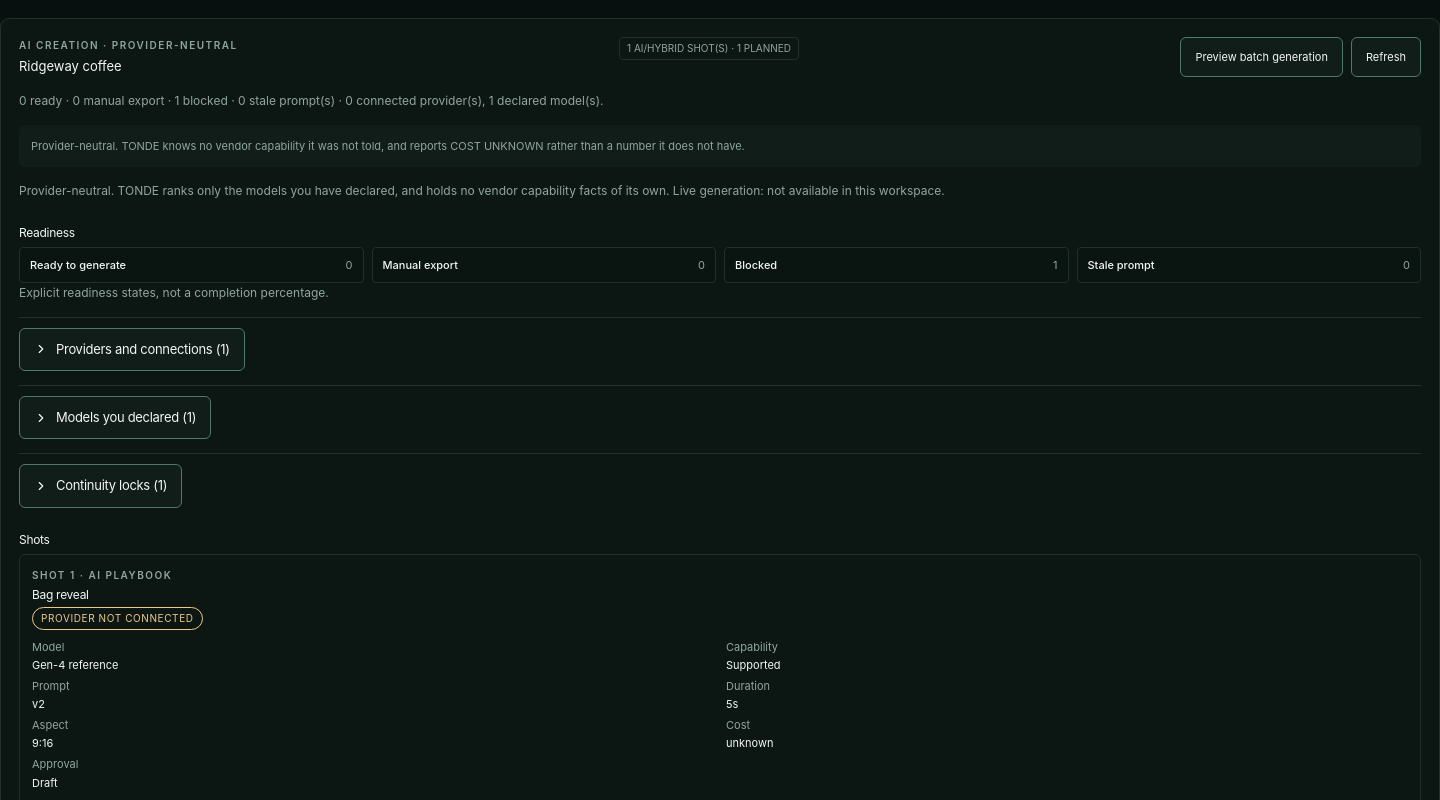
Test: AI Creation surface › lists declared models with declared capability, never inferred from the name
Step 1. Click the button "Models you declared (1)" → {"x": 115, "y": 418}, box top-left (19, 396), bottom-right (211, 439)
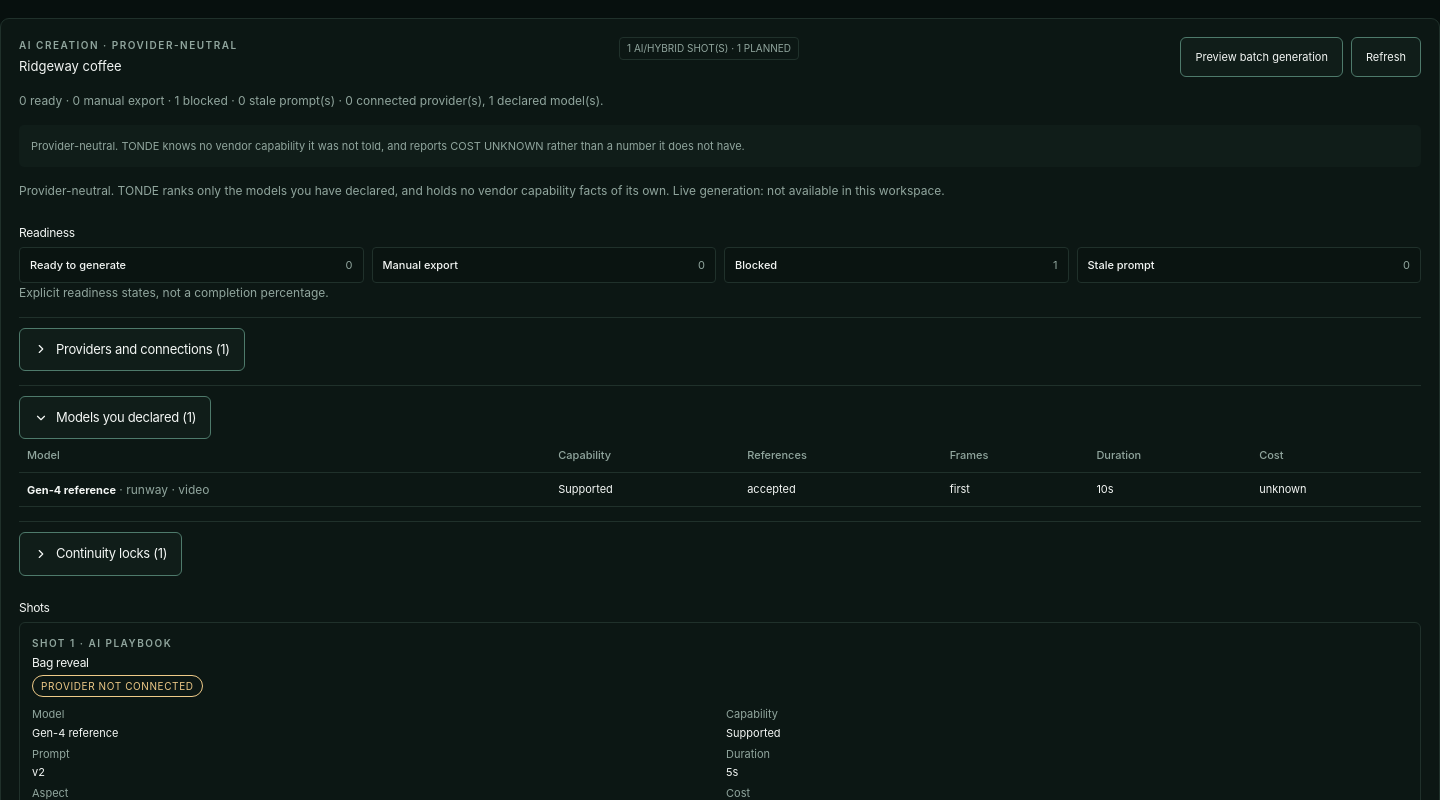
Check: the text "Gen-4 reference" next to "runway" is shown, box top-left (27, 483), bottom-right (116, 497)
Check: the text "Supported" is shown, box top-left (550, 473), bottom-right (739, 507)
Check: the text "accepted" is shown, box top-left (739, 473), bottom-right (942, 507)
